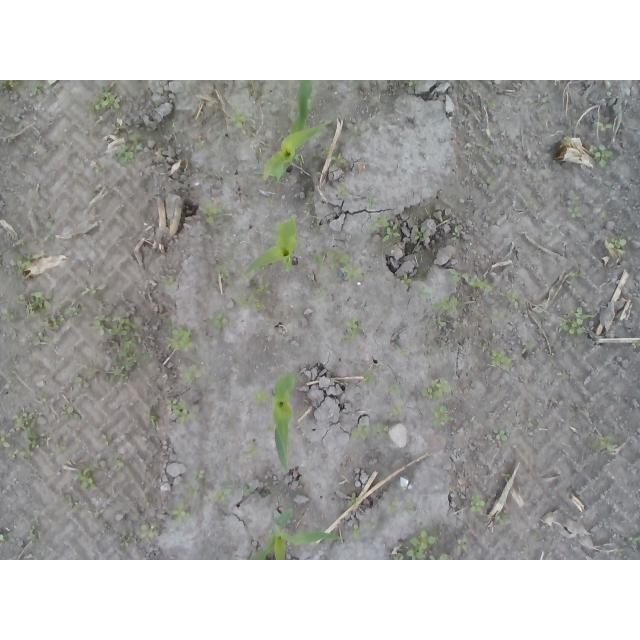Maize: (261, 80, 327, 178), (249, 509, 342, 560), (243, 215, 298, 277), (271, 371, 298, 472)
Weeds: (94, 313, 140, 383), (310, 250, 363, 283), (14, 410, 46, 451), (415, 287, 459, 313), (448, 267, 492, 293), (112, 133, 144, 166), (239, 283, 273, 314), (558, 306, 592, 336), (407, 528, 437, 560), (88, 84, 121, 112), (368, 215, 402, 242), (416, 376, 452, 401), (15, 292, 51, 315), (162, 502, 195, 526), (351, 421, 389, 441), (167, 328, 194, 353), (342, 315, 364, 345), (591, 432, 618, 456), (200, 200, 225, 225), (166, 398, 192, 422), (589, 143, 612, 170), (430, 404, 454, 429), (567, 190, 586, 219), (385, 501, 416, 518), (73, 468, 96, 489), (351, 367, 377, 385), (605, 236, 627, 256), (489, 350, 511, 368), (229, 106, 247, 127), (346, 521, 363, 543), (44, 315, 64, 332), (209, 487, 233, 501), (139, 522, 158, 539), (470, 492, 485, 512), (454, 533, 470, 551), (16, 256, 32, 274), (0, 304, 16, 321), (332, 154, 348, 171), (384, 382, 401, 397), (214, 312, 229, 329), (593, 122, 615, 133), (254, 390, 268, 406), (31, 334, 49, 346), (63, 306, 81, 318), (111, 456, 125, 469), (31, 82, 45, 95), (336, 185, 349, 199), (495, 429, 510, 441), (414, 227, 426, 242), (183, 485, 198, 497), (362, 518, 378, 529), (192, 471, 208, 482), (496, 513, 513, 523), (2, 80, 23, 88), (241, 485, 256, 496), (101, 431, 111, 447), (0, 531, 16, 541), (400, 272, 412, 285), (431, 318, 443, 330), (82, 288, 98, 297), (509, 291, 521, 302), (149, 415, 161, 426), (119, 534, 130, 546), (162, 279, 174, 290), (451, 228, 461, 241), (26, 529, 34, 545), (63, 415, 81, 422), (195, 140, 206, 151), (484, 100, 497, 109), (390, 407, 401, 417), (183, 369, 194, 379), (0, 435, 8, 448), (272, 176, 285, 184), (399, 347, 409, 357), (631, 534, 640, 545), (501, 473, 512, 482), (368, 197, 377, 208), (438, 552, 450, 560), (264, 197, 273, 207), (351, 493, 359, 504), (394, 553, 405, 560), (320, 287, 328, 296), (568, 272, 576, 281), (407, 81, 417, 88), (632, 340, 640, 348)
